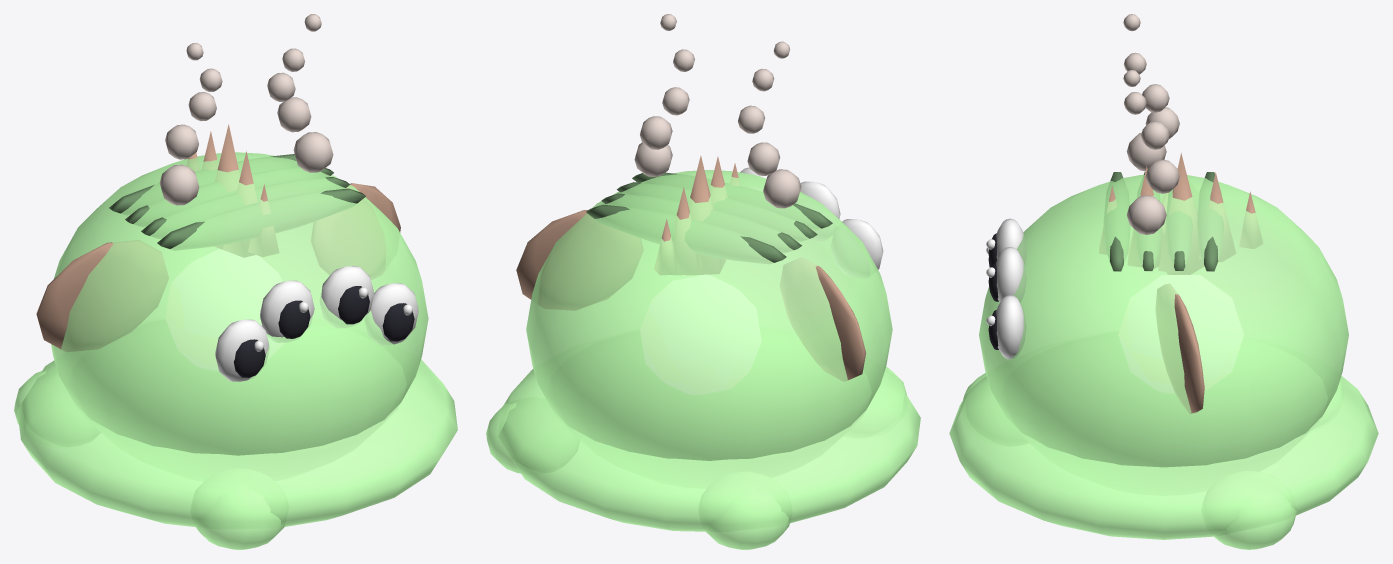
File: forest_jelly_03.glb
3 views of the same model, side by side, from view 1: azimuth 30°, elevation 25°; view 2: azimuth 150°, elevation 25°; view 3: azimuth 270°, elevation 25° (orthographic). The views are drawn at different scales.
Visible parts, largest first — view 1: ball; view 2: ball; view 3: ball.
Part boxes in pixels (box(x1,y1,x2,y2)): ball: box(14, 14, 457, 549); ball: box(486, 14, 920, 549); ball: box(949, 14, 1378, 549).
Bounding box in the file's own units: 1.24 × 1.43 × 1.24.
